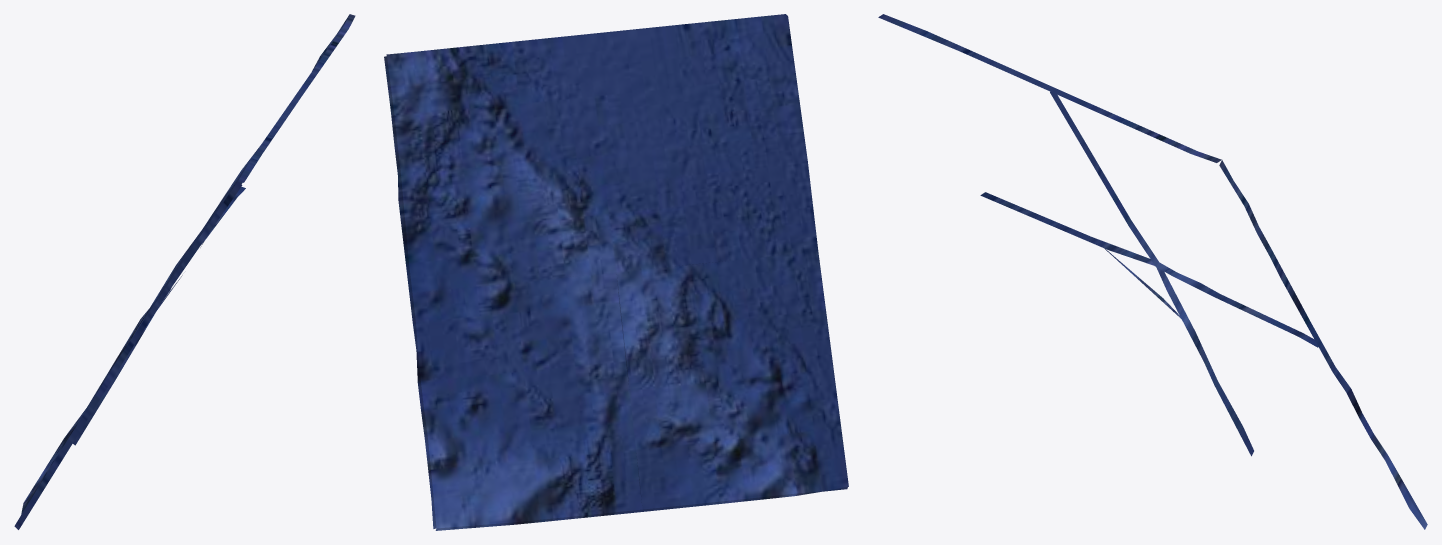
3 views of the same model, side by side, from view 1: azimuth 30°, elevation 25°; view 2: azimuth 150°, elevation 25°; view 3: azimuth 270°, elevation 25° (orthographic). The views are drawn at different scales.
Size of the model in its own units: 306247 by 276187 by 305355.
1 material, 1 textured.
